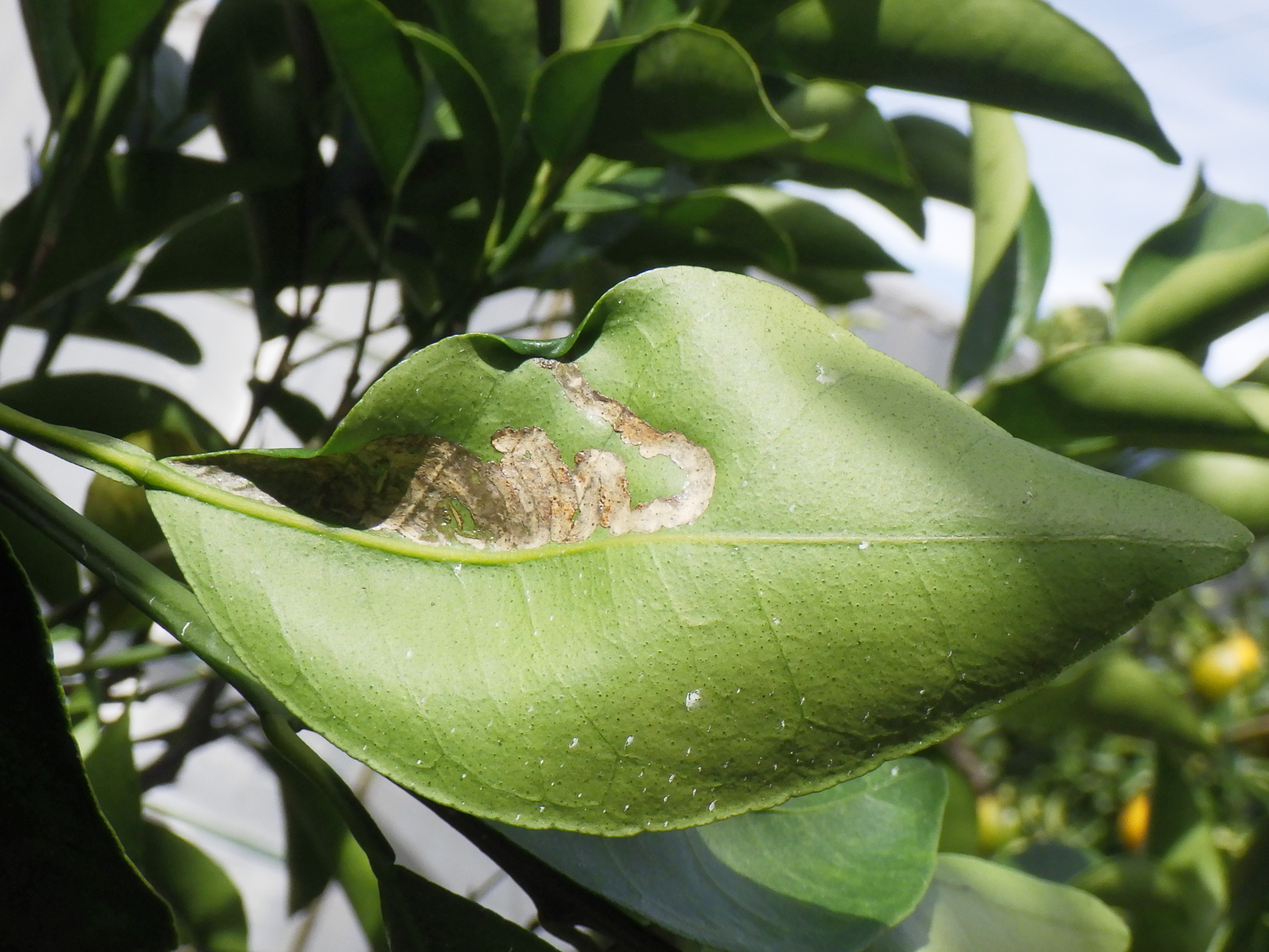Citrus_Leaf_Miner: (186, 359, 715, 550)
